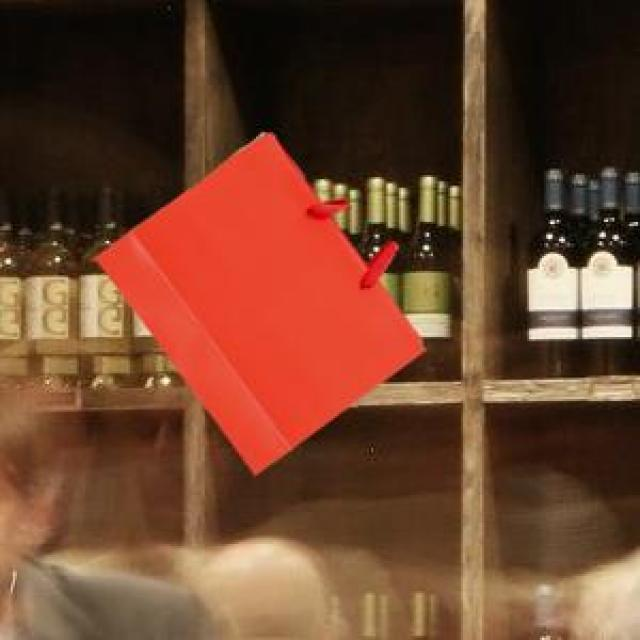paper: (92, 128, 420, 472)
